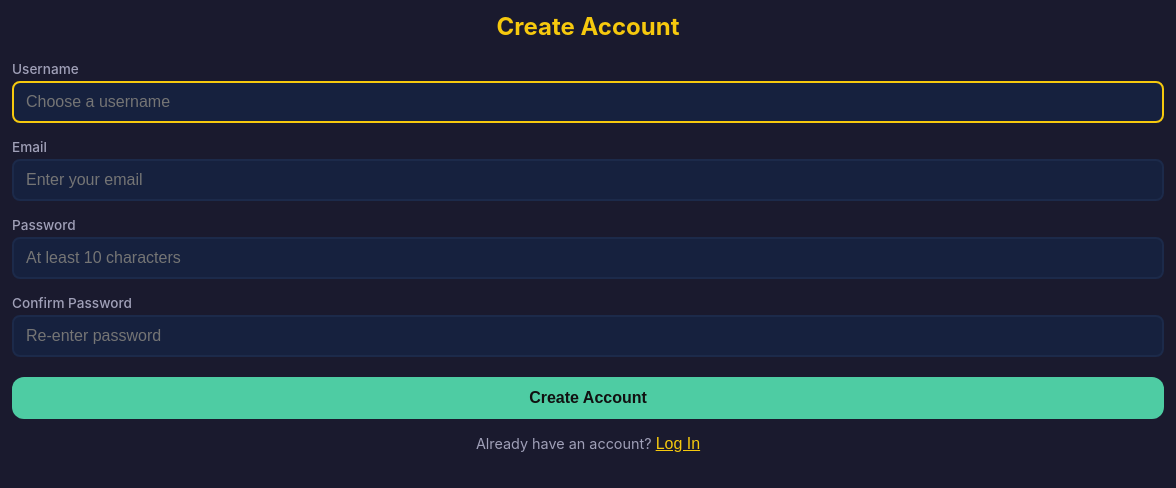
Scenario: RegisterForm › shows validation error on username blur with short value
Type "ab" into the field labelled "Username" at (588, 102), box 12,81 -> 1164,123
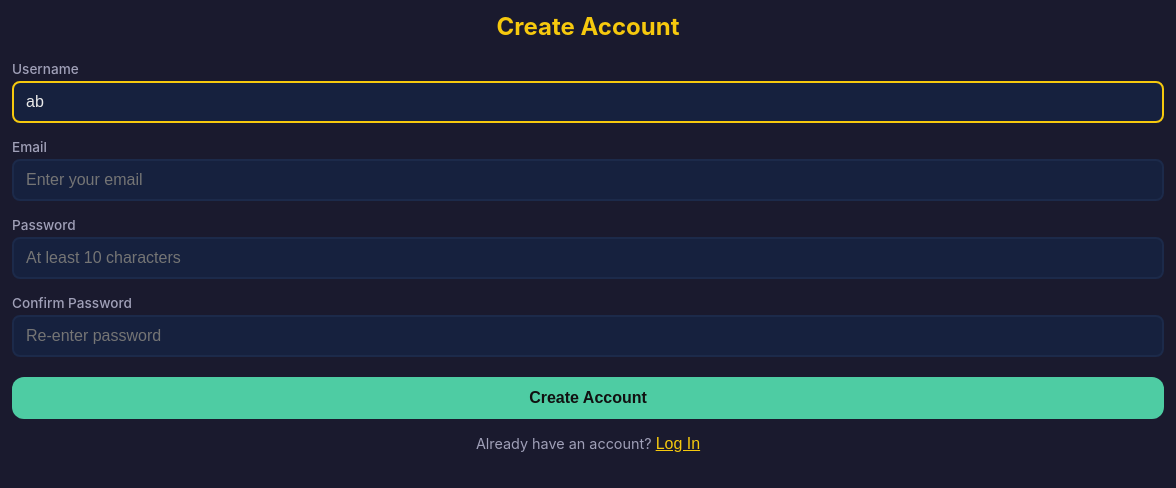
Leave the field labelled "Username", box 12,81 -> 1164,123
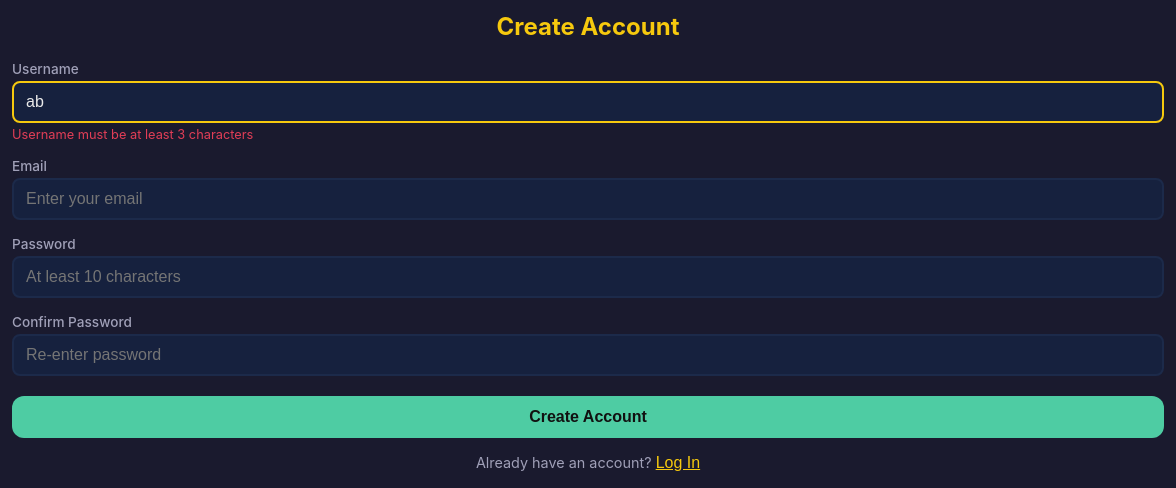
Check: the text "Username must be at least 3 characters" is shown, box 12,127 -> 253,142
